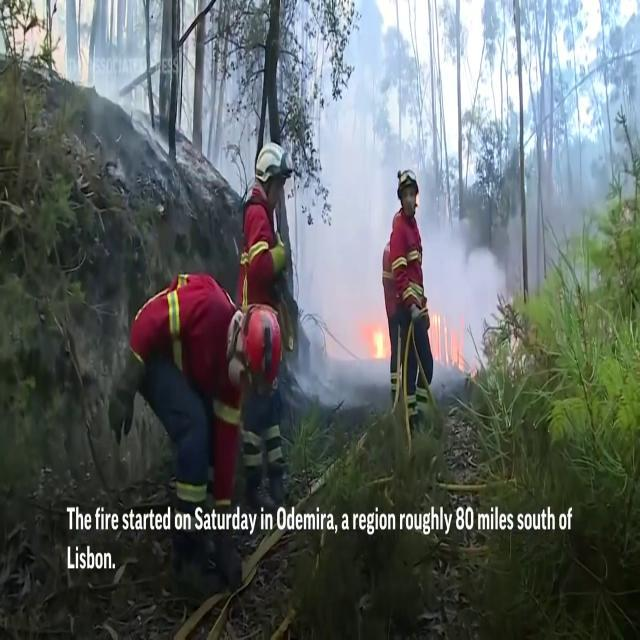Fire: (368, 316, 390, 364)
Smoke: (284, 14, 512, 394), (500, 46, 638, 296)
